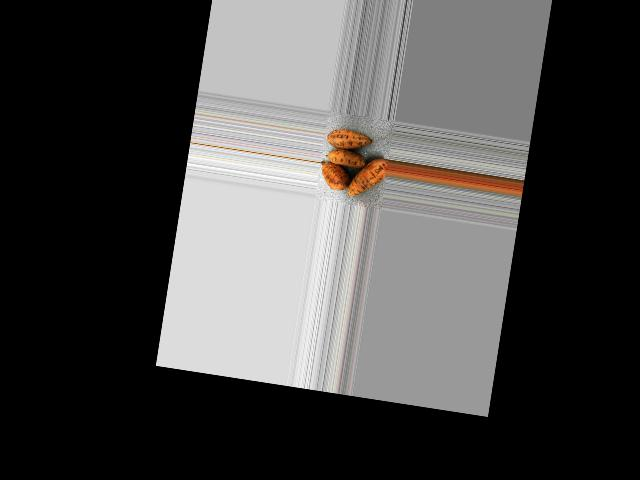sweet_potato: (346, 149, 390, 204)
